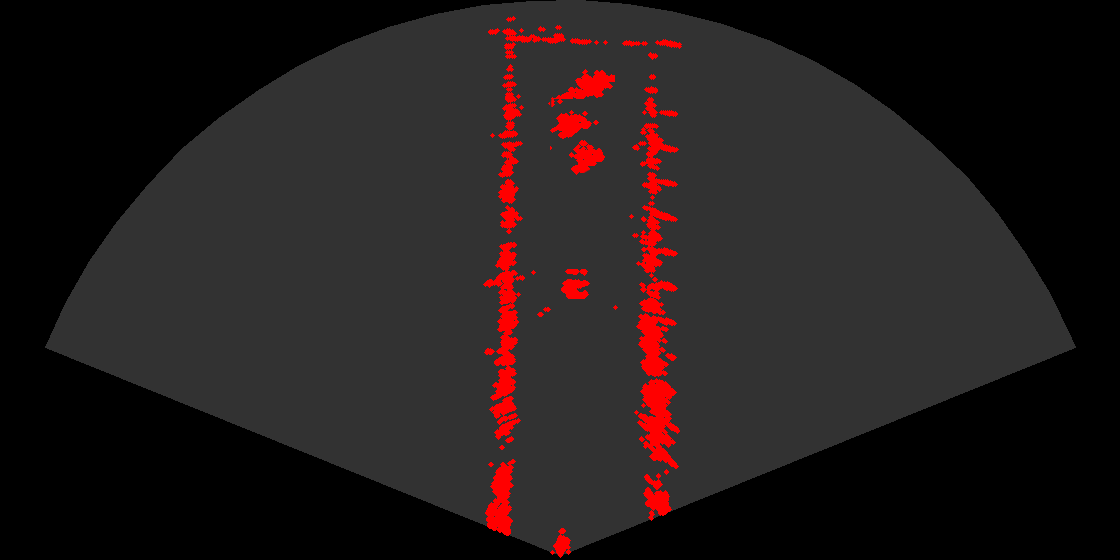ball: (541, 261, 601, 302)
cage: (550, 99, 613, 183)
frogman: (547, 63, 615, 110)
